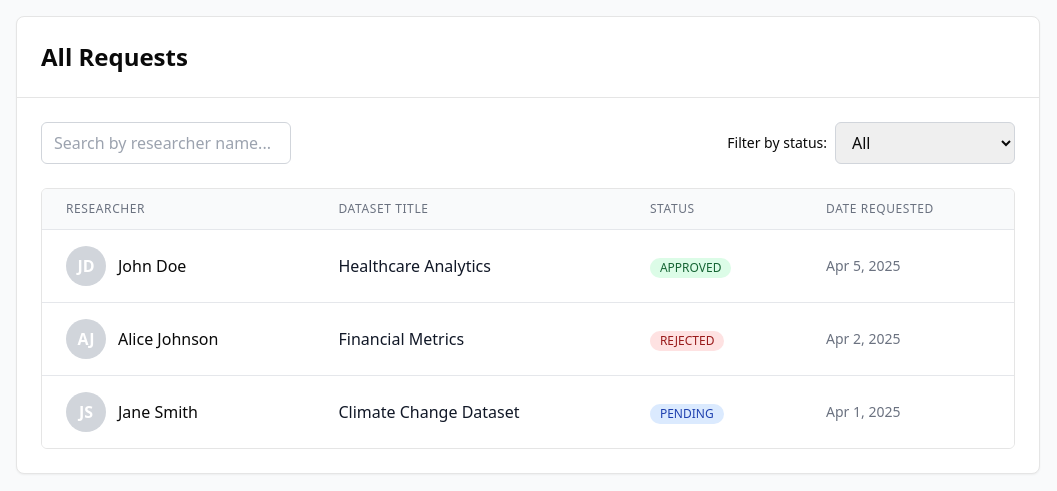
Scenario: AllRequests Component › searches requests by researcher name
Expected: the text "Jane Smith" is shown, [118,400,198,424]
Expected: the text "John Doe" is shown, [118,254,186,278]
Search for 'Alice'
Type "Alice" into the field with placeholder "Search by researcher name...". click: x=166, y=143
box: [41,122,291,164]
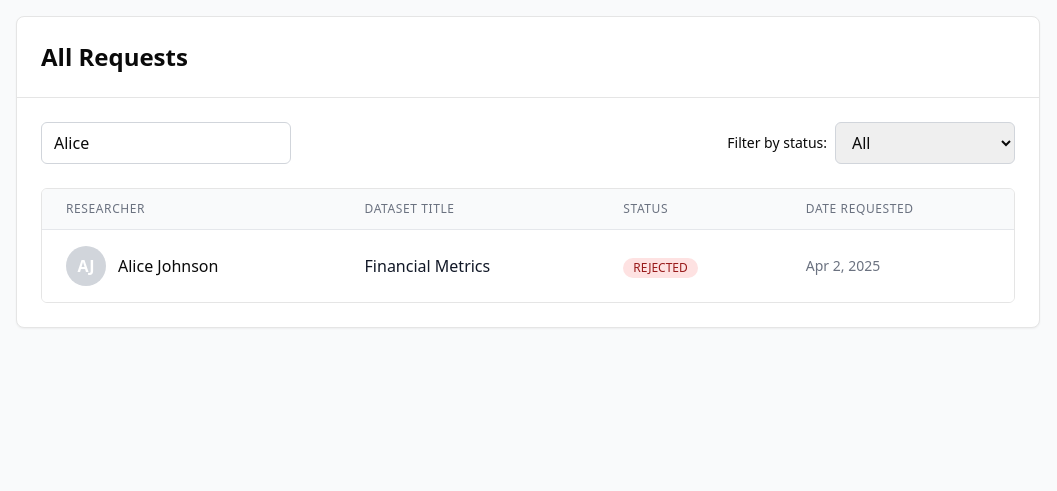
Expected: the text "Alice Johnson" is shown, [118,254,218,278]
Now the text "Jane Smith" is gone
Now the text "John Doe" is gone
